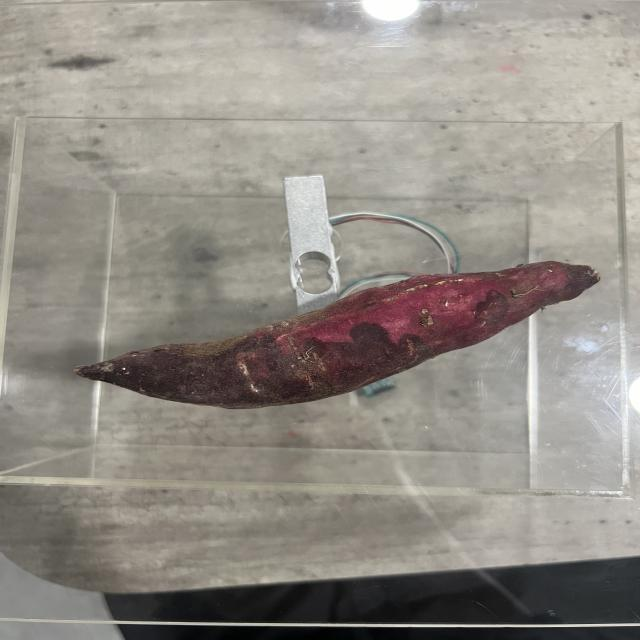sweet potato: (70, 254, 592, 408)
